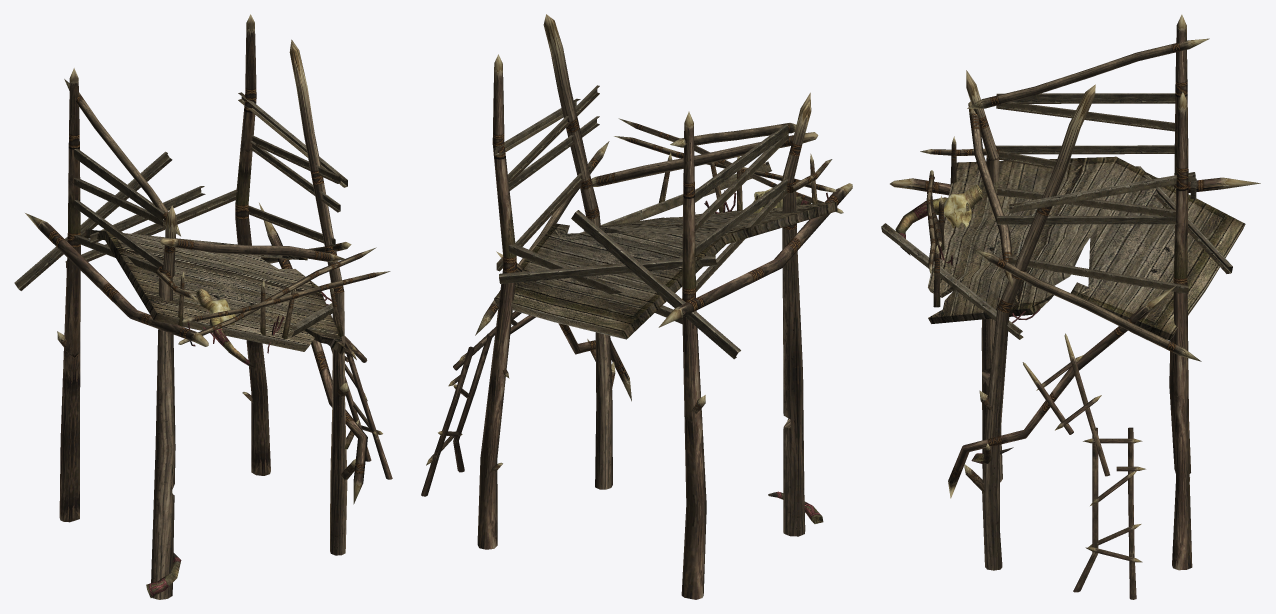
The model's file is gaint_builda_05_d.fbx.
3 views of the same model, side by side, from view 1: azimuth 30°, elevation 25°; view 2: azimuth 150°, elevation 25°; view 3: azimuth 270°, elevation 25° (orthographic). The views are drawn at different scales.
Visible parts, largest first — view 1: Object15; view 2: Object15; view 3: Object15.
Boxes of the visible parts, <box> form: Object15: <box>14,14,392,599</box>; Object15: <box>421,14,852,599</box>; Object15: <box>881,14,1260,599</box>.
Bounding box in the file's own units: 14.07 × 19.59 × 13.94.
